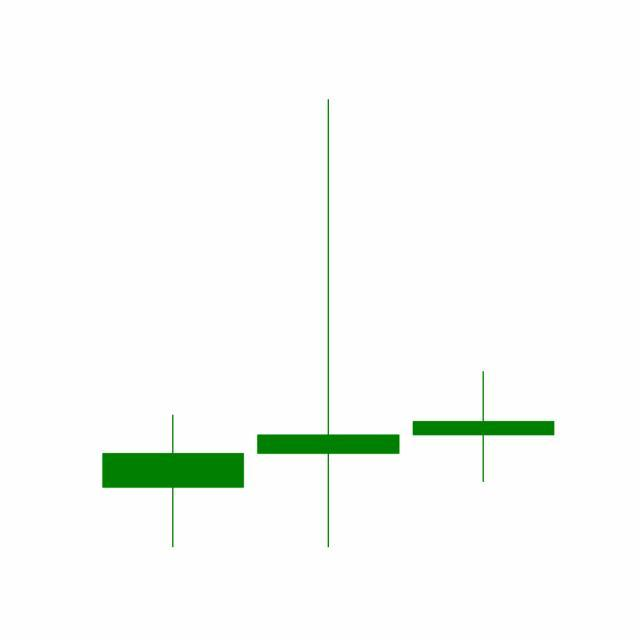Spinning Top: (406, 370, 562, 484)
